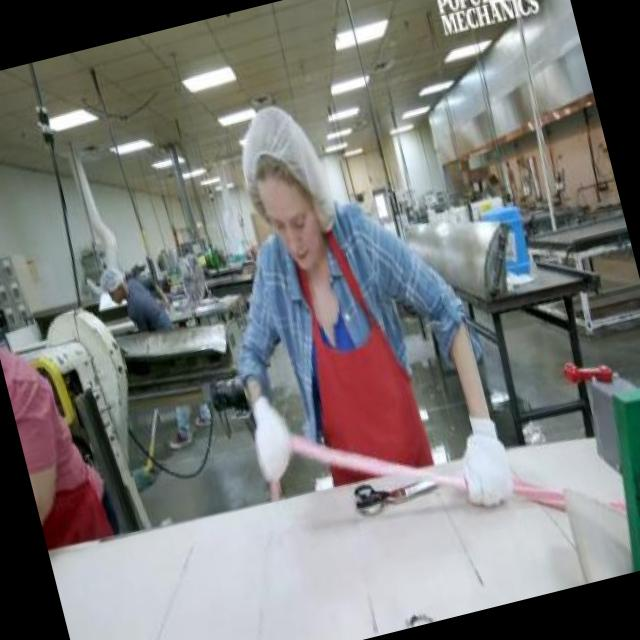hairnet: (222, 94, 328, 200), (100, 265, 129, 296)
